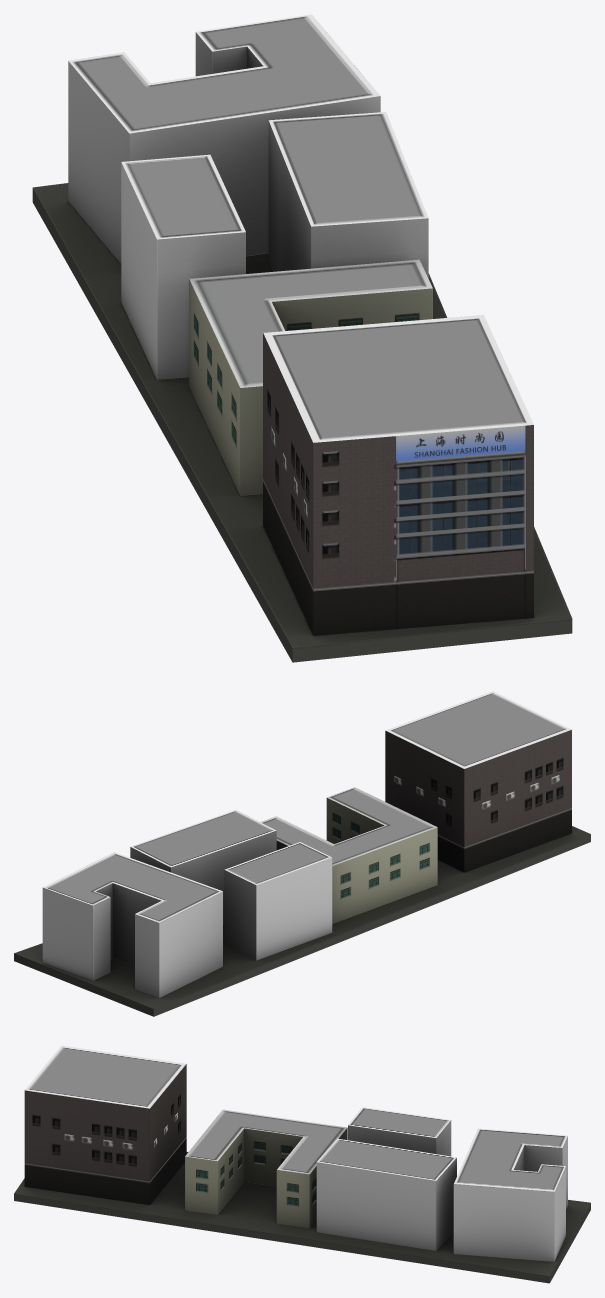
The model's file is shssx.gltf.
3 renders of one model, top to bottom at view 1: azimuth 30°, elevation 25°; view 2: azimuth 150°, elevation 25°; view 3: azimuth 270°, elevation 25°, orthographic. The views are drawn at different scales.
Visible parts, largest first — view 1: pCube2, pCube6, pCube1, pCube3, pCube5, pCube7; view 2: pCube2, pCube6, pCube3, pCube1, pCube7, pCube5; view 3: pCube2, pCube6, pCube1, pCube5, pCube3, pCube7.
Part boxes in pixels (x1,y1,x2,y2): pCube2: [263, 315, 533, 635]; pCube6: [68, 14, 380, 263]; pCube1: [32, 183, 572, 662]; pCube3: [189, 259, 432, 495]; pCube5: [268, 112, 428, 278]; pCube7: [121, 154, 245, 379]; pCube2: [385, 691, 571, 872]; pCube6: [42, 852, 222, 998]; pCube3: [260, 787, 437, 923]; pCube1: [14, 826, 590, 1016]; pCube7: [224, 842, 332, 960]; pCube5: [130, 810, 276, 924]; pCube2: [24, 1045, 186, 1204]; pCube6: [453, 1128, 567, 1261]; pCube1: [14, 1152, 590, 1283]; pCube5: [316, 1138, 456, 1250]; pCube3: [185, 1109, 347, 1228]; pCube7: [348, 1107, 451, 1156].
Bounding box in the file's own units: 9.96 × 3.42 × 17.21.
1 material, 1 textured.
